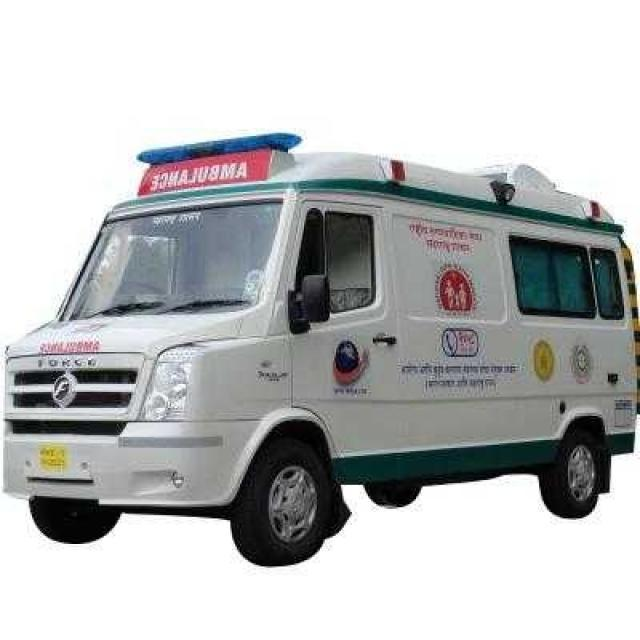emergency-vehicle: (1, 129, 640, 563)
